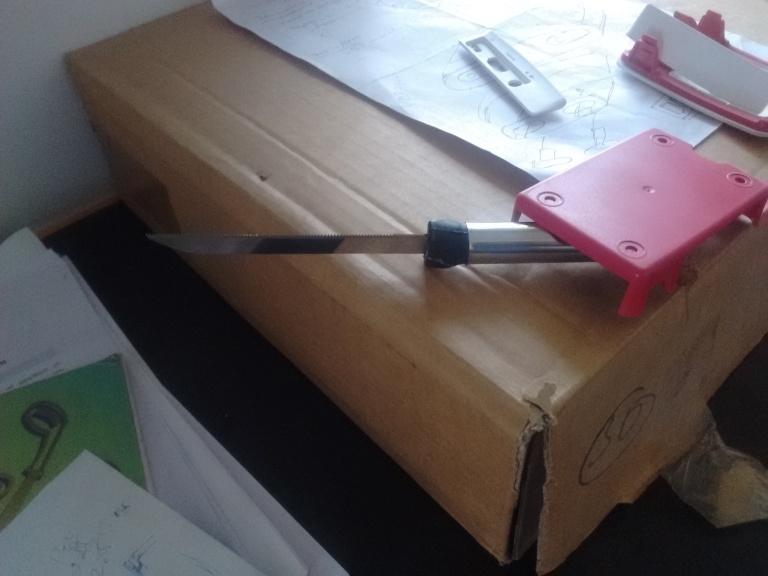knife: (141, 215, 586, 270)
